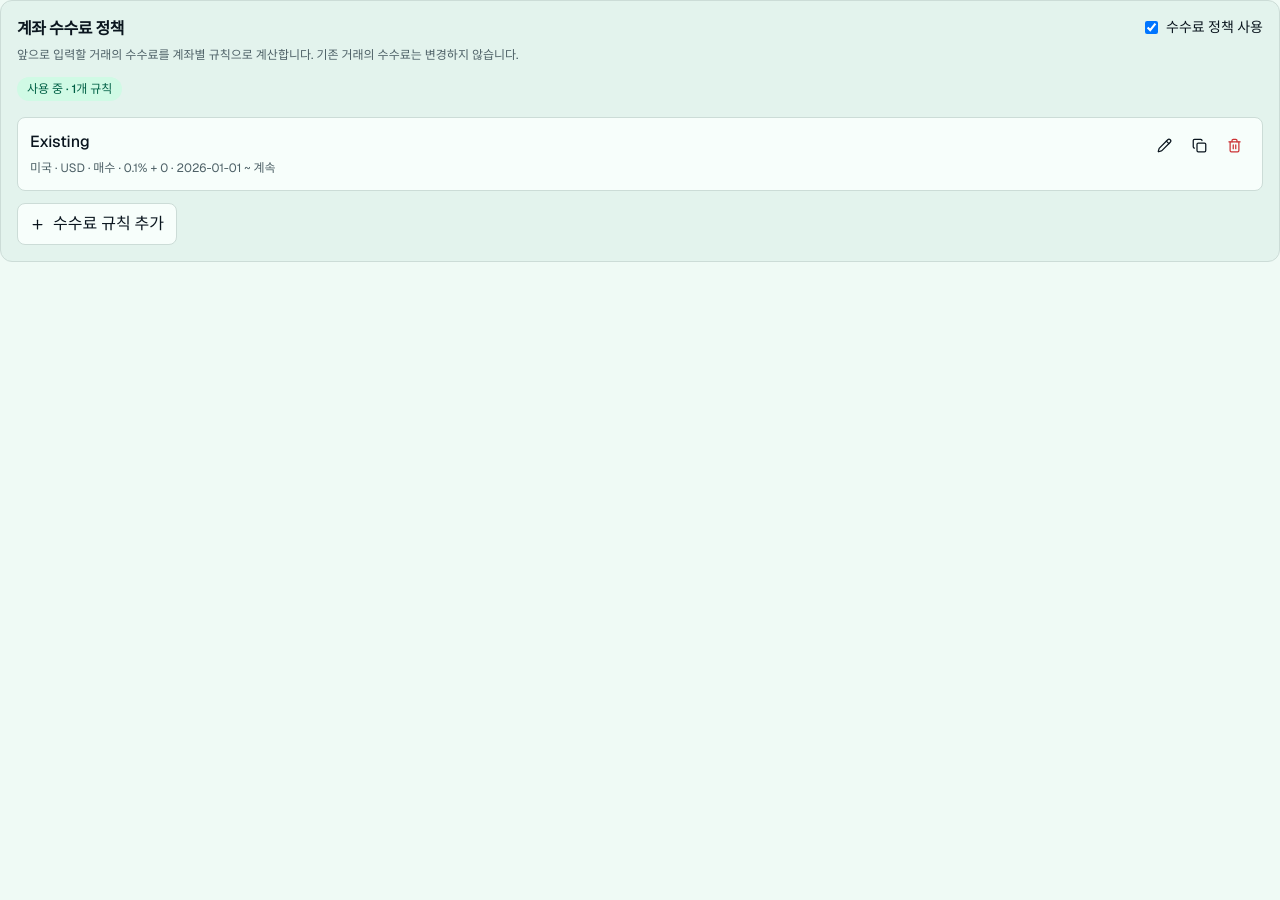
AccountFeePolicyEditor › blocks a duplicated rule until its overlapping scope is resolved
Step 1. Click the button named "Existing 복제" → (1200, 146), box [1184,130,1215,161]
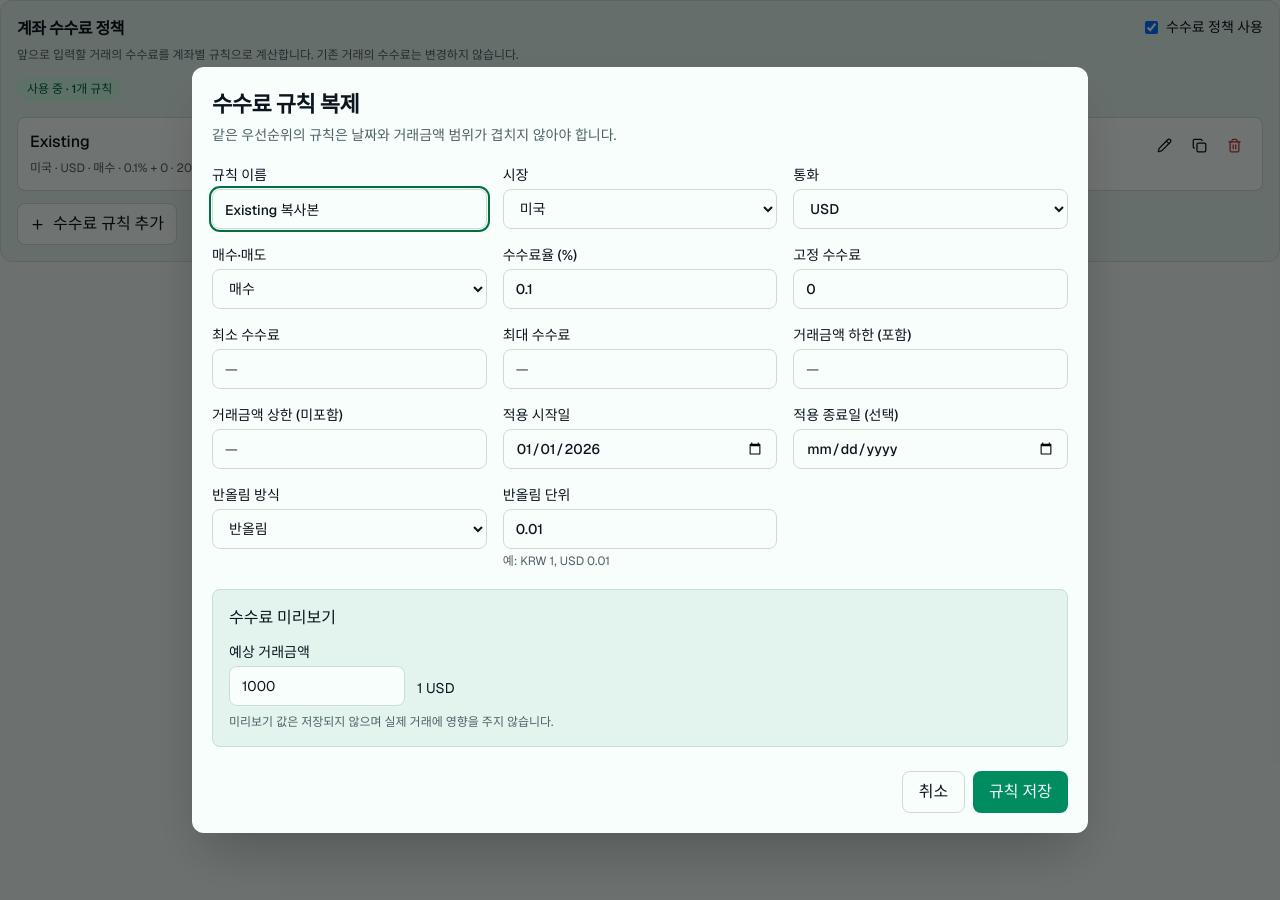
Step 2. Click the button "규칙 저장" → (1021, 792), box [973,771,1068,813]
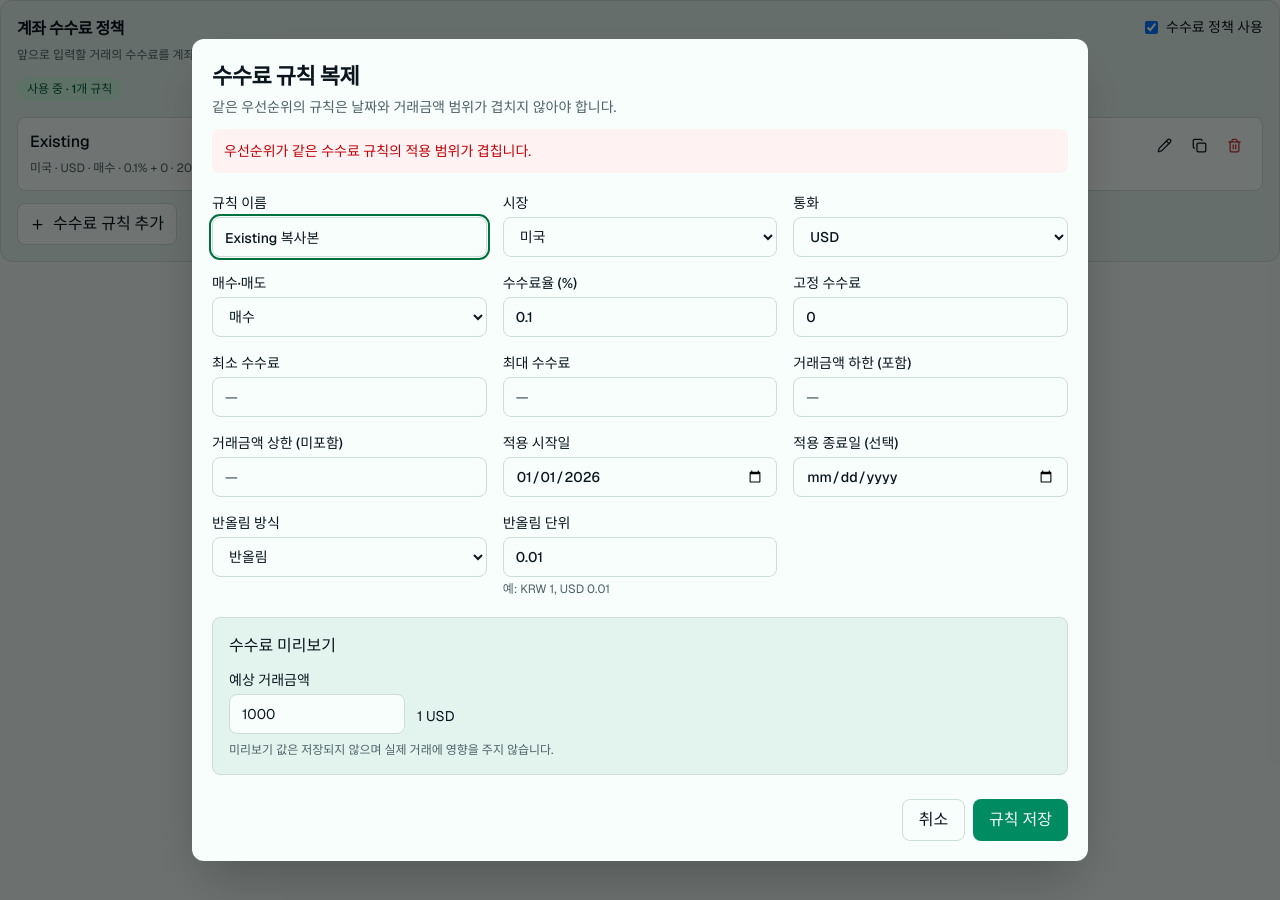
Result: the message reads "우선순위가 같은 수수료 규칙의 적용 범위가 겹칩니다." at [224,142,531,160]
